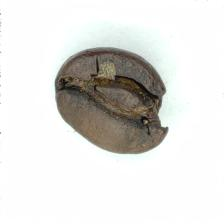NG: (88, 54, 169, 138)
